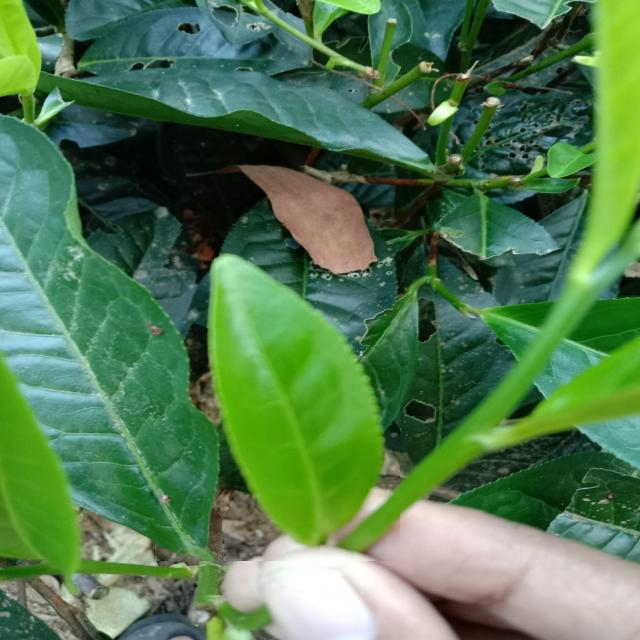Category C 4-7 days: (150, 222, 400, 562)
